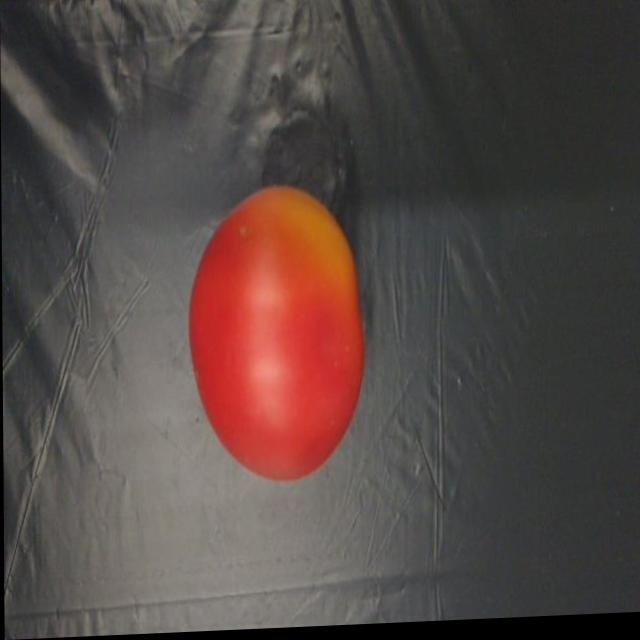sari: (183, 158, 409, 528)
